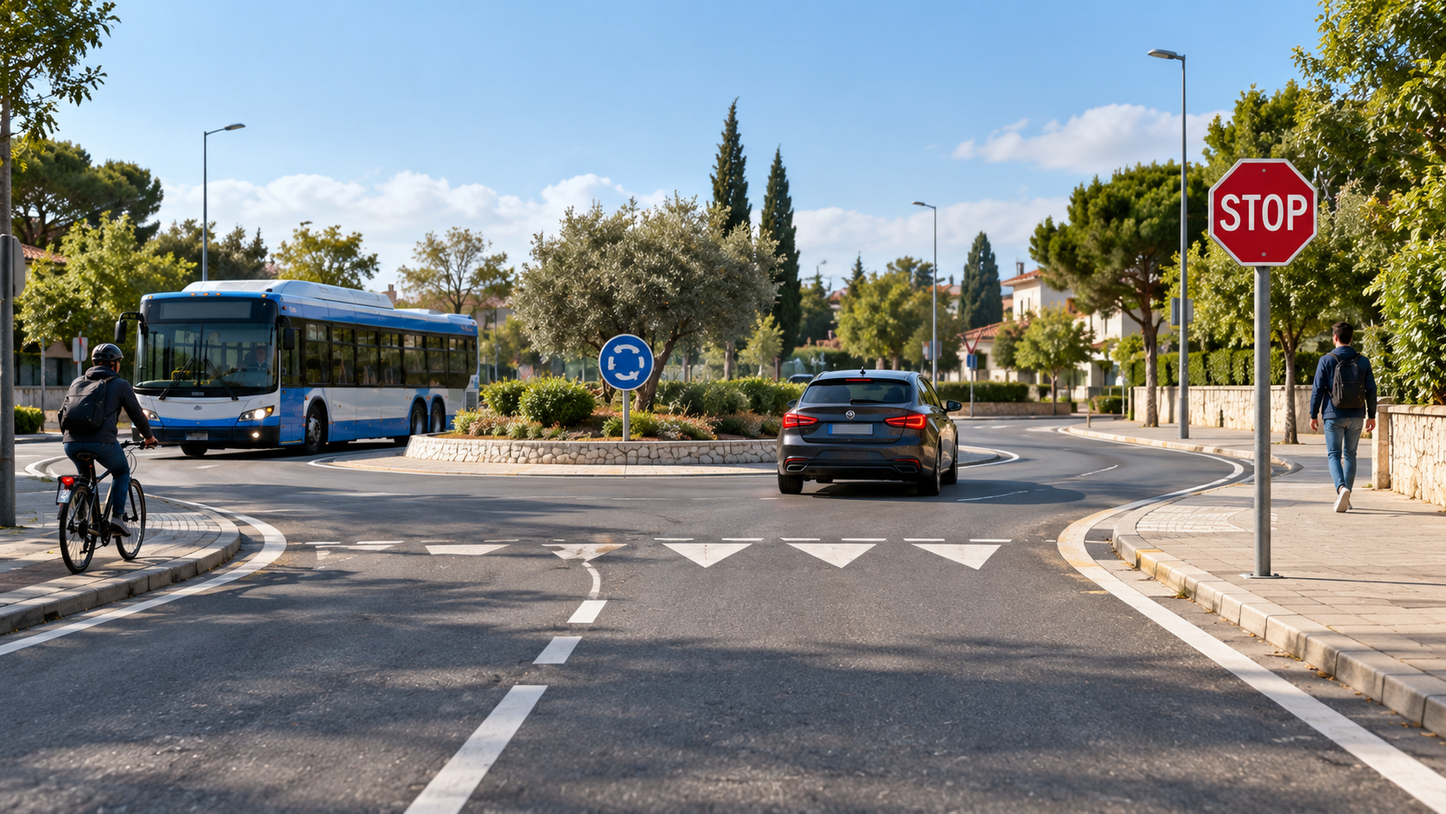bicycle: (54, 411, 154, 580)
bus: (112, 278, 486, 468)
car: (771, 366, 971, 502)
person: (56, 344, 163, 542), (1308, 319, 1385, 516)
stop_sign: (1202, 157, 1321, 287)
